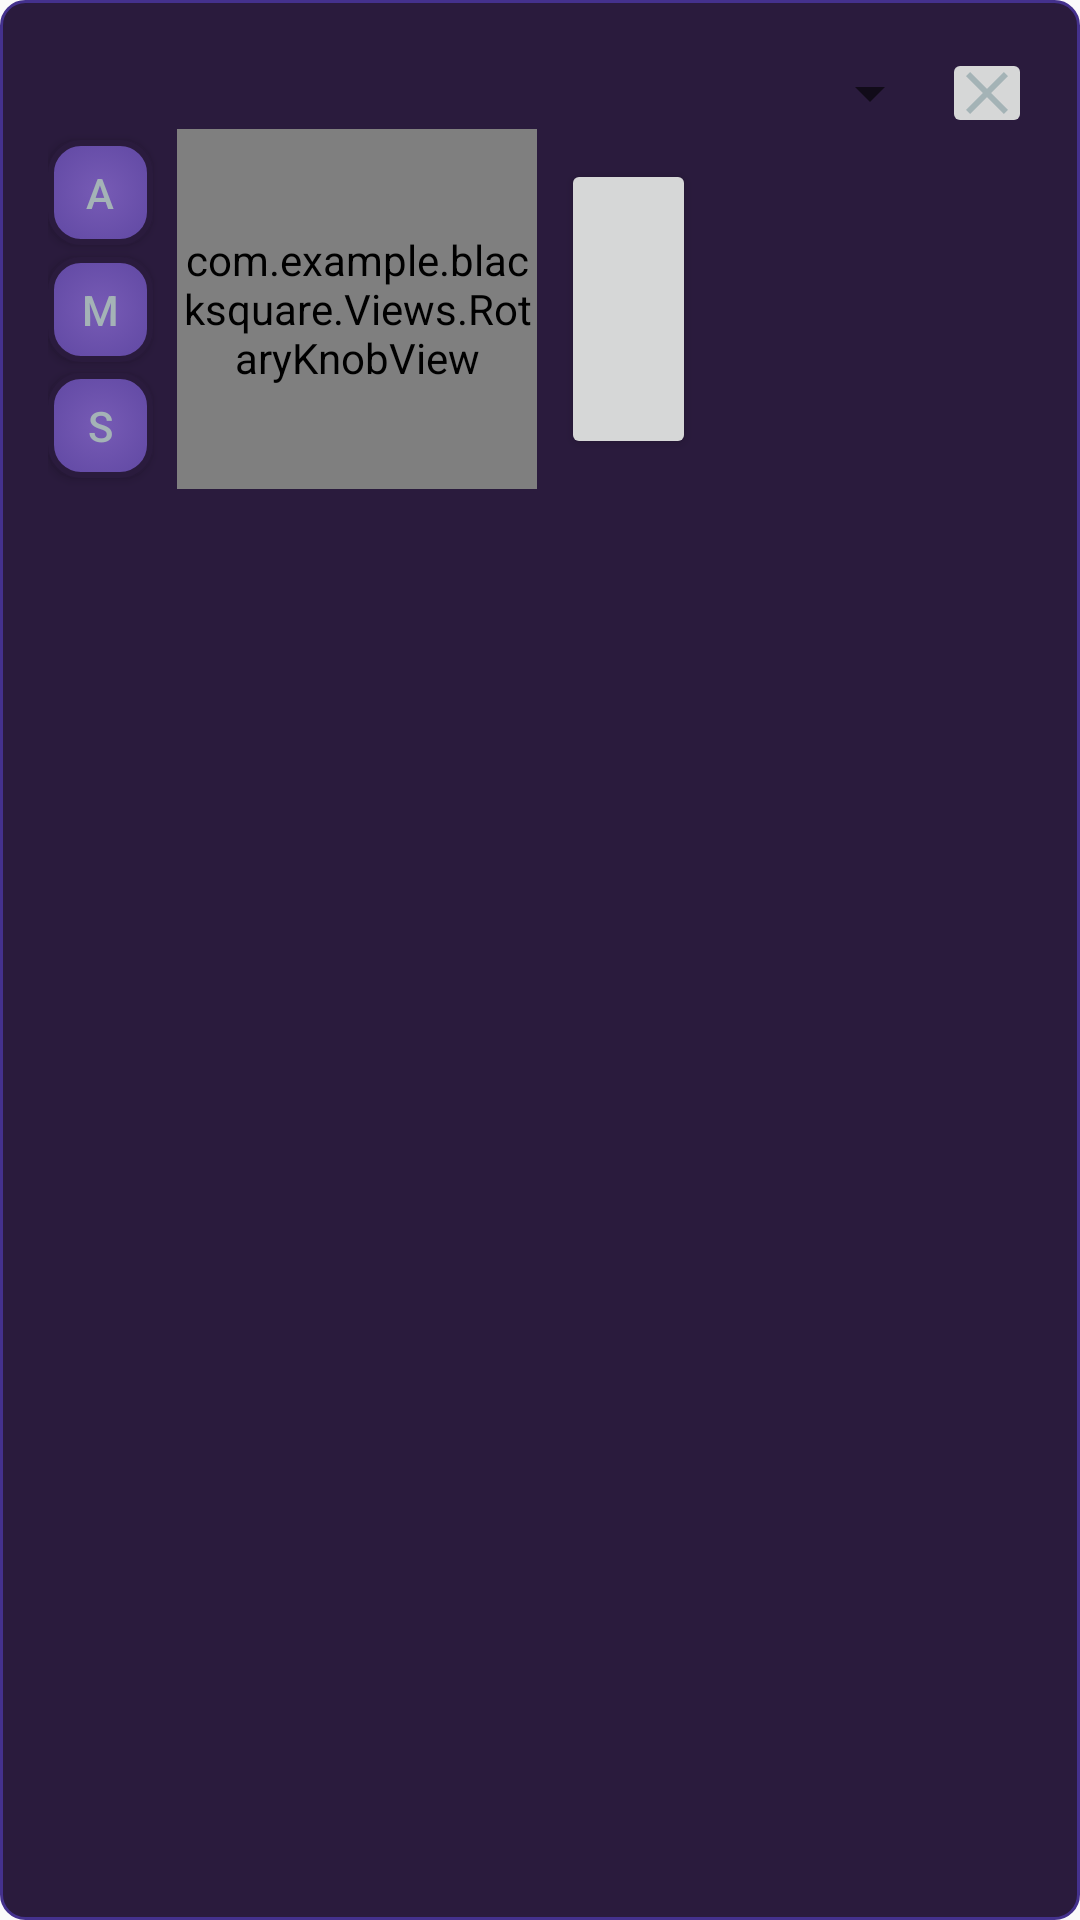

Point at icon controls on the screen. Image size 1080px x 1920px, points as point (x, y).
close: point (987, 93)
